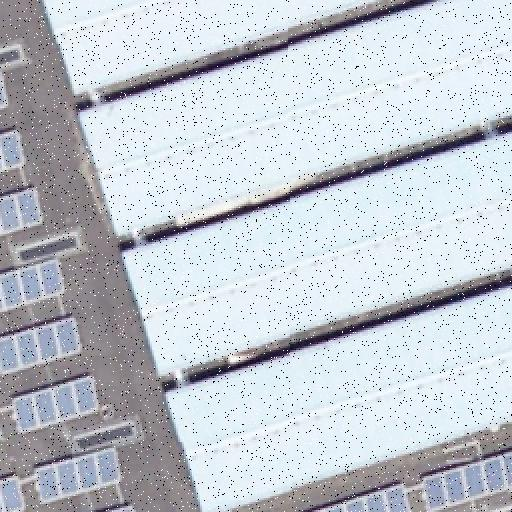solar-panel: (422, 448, 512, 512), (12, 374, 100, 434), (35, 447, 125, 505), (0, 313, 84, 375), (1, 256, 71, 312), (313, 481, 415, 511), (0, 187, 48, 237), (0, 131, 28, 173), (0, 472, 28, 512), (1, 71, 15, 113), (101, 504, 131, 512), (1, 422, 7, 442)
